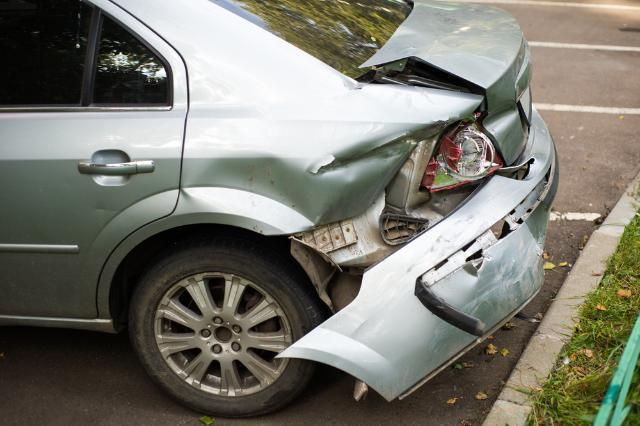dent: (183, 148, 320, 231), (302, 132, 410, 181)
dislocated part: (264, 108, 562, 403)
lamp broken: (423, 119, 503, 193)
